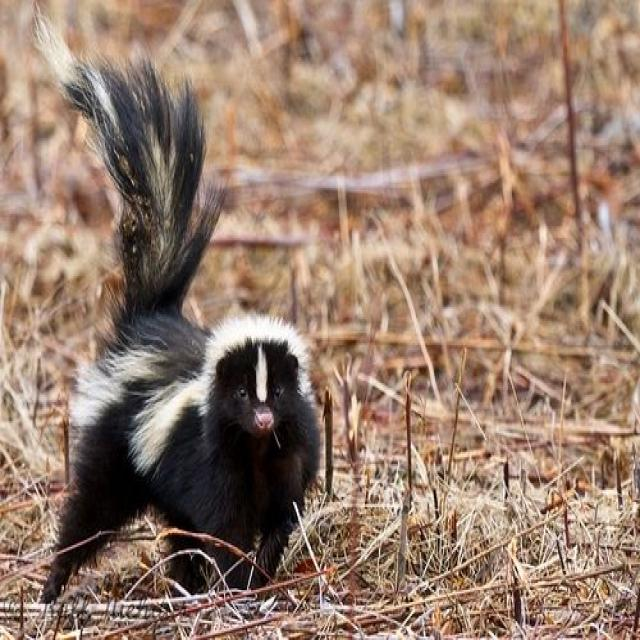Skunk: (16, 29, 325, 587)
